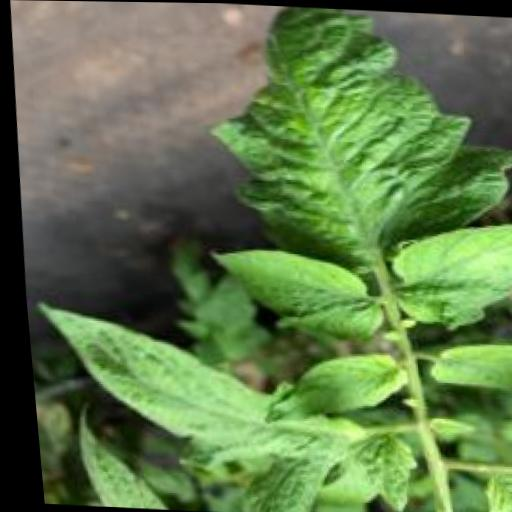Healthy: (193, 2, 512, 275), (26, 300, 348, 476), (203, 245, 384, 341), (380, 213, 512, 326), (259, 344, 406, 420), (345, 429, 411, 512), (423, 338, 512, 391)
